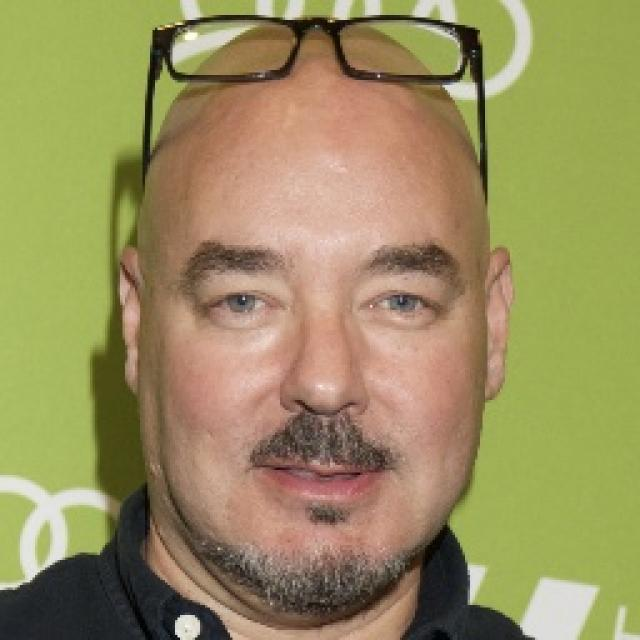earlobe: (479, 245, 516, 402), (114, 245, 147, 399)
